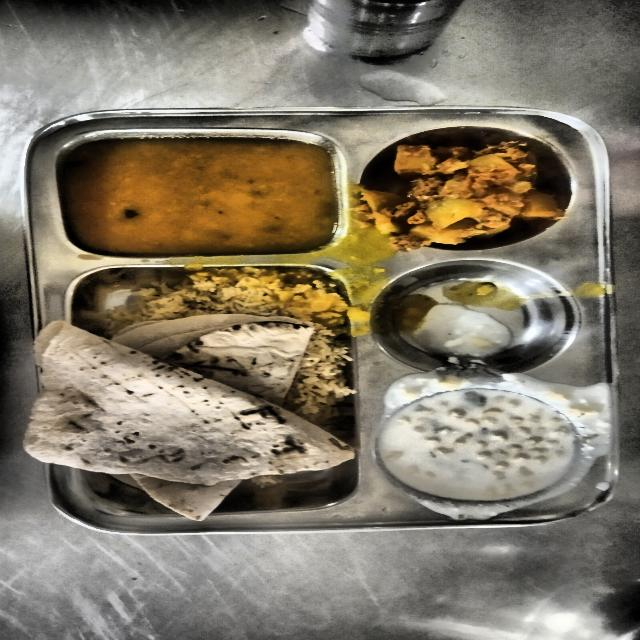Chilli-paneer: (63, 139, 336, 257)
Raita: (109, 267, 349, 335)
Red--chutney: (24, 314, 354, 519)
Salad-onion: (115, 71, 379, 194), (361, 128, 568, 250)
daal-pulse: (381, 390, 577, 501)
